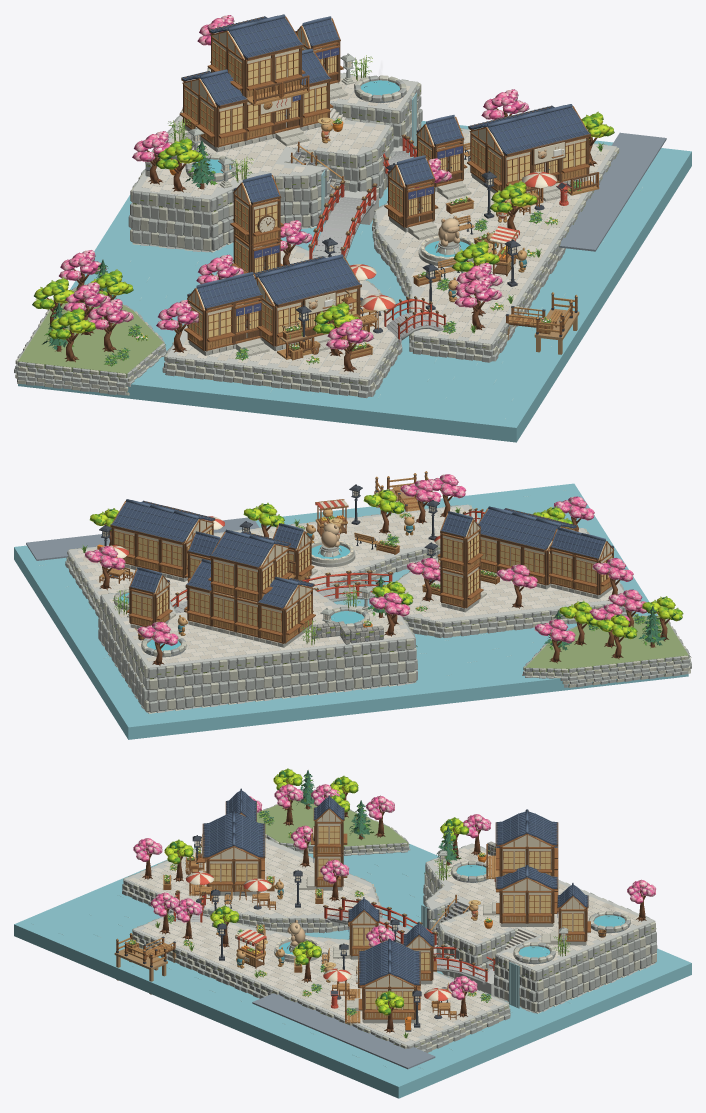
File: Town_blockout_lite.glb
3 views of the same model, one above another, from view 1: azimuth 30°, elevation 25°; view 2: azimuth 150°, elevation 25°; view 3: azimuth 270°, elevation 25° (orthographic). The views are drawn at different scales.
Parts seen in each view (by area): view 1: Continuous_river_basin, Paving_2, Paving_1, Paving_0, Entry_road, Background_woodland, Onsen_terrace, Central_plaza, Central_bridge_L201_150, Cafe_district, West_bridge_L201_149, Onsen_terrace_cliff_L204_276 (+69 smaller); view 2: Continuous_river_basin, Paving_2, Paving_1, Paving_0, Background_woodland, Onsen_terrace, Central_plaza, Cafe_district, Entry_road, Central_bridge_L201_150, Onsen_terrace_cliff_L204_269, Onsen_terrace_cliff_L204_272 (+83 smaller); view 3: Continuous_river_basin, Paving_2, Paving_1, Paving_0, Central_plaza, Onsen_terrace, Entry_road, Cafe_district, Background_woodland, Central_bridge_L201_150, East_bridge_L201_151, Clock_tower_B101_47 (+46 smaller).
Part boxes in pixels (<box>): Continuous_river_basin: <box>18,121,691,442</box>; Paving_2: <box>145,75,602,372</box>; Paving_1: <box>141,78,609,376</box>; Paving_0: <box>153,76,606,374</box>; Entry_road: <box>559,132,666,251</box>; Background_woodland: <box>18,284,163,392</box>; Onsen_terrace: <box>132,69,418,251</box>; Central_plaza: <box>376,129,616,361</box>; Central_bridge_L201_150: <box>308,180,377,259</box>; Cafe_district: <box>166,244,395,396</box>; West_bridge_L201_149: <box>383,296,446,342</box>; Onsen_terrace_cliff_L204_276: <box>183,197,211,252</box>; Continuous_river_basin: <box>14,483,688,739</box>; Paving_2: <box>74,508,618,661</box>; Paving_1: <box>77,507,611,663</box>; Paving_0: <box>82,509,600,663</box>; Background_woodland: <box>525,616,688,677</box>; Onsen_terrace: <box>101,589,414,712</box>; Central_plaza: <box>68,504,479,607</box>; Cafe_district: <box>397,528,623,637</box>; Entry_road: <box>26,517,259,560</box>; Central_bridge_L201_150: <box>302,570,401,601</box>; Onsen_terrace_cliff_L204_269: <box>281,650,309,698</box>; Onsen_terrace_cliff_L204_272: <box>361,641,389,689</box>; Continuous_river_basin: <box>14,843,691,1098</box>; Paving_2: <box>136,845,634,1041</box>; Paving_1: <box>128,842,640,1042</box>; Paving_0: <box>138,849,642,1038</box>; Central_plaza: <box>133,912,508,1048</box>; Onsen_terrace: <box>426,843,655,1012</box>; Entry_road: <box>252,993,435,1069</box>; Cafe_district: <box>124,838,380,931</box>; Background_woodland: <box>257,800,407,854</box>; Central_bridge_L201_150: <box>323,896,437,945</box>; East_bridge_L201_151: <box>433,944,495,984</box>; Clock_tower_B101_47: <box>316,821,341,854</box>.
Bounding box in the file's own units: 52.48 × 11.97 × 52.33.
61 materials, 49 textured.
